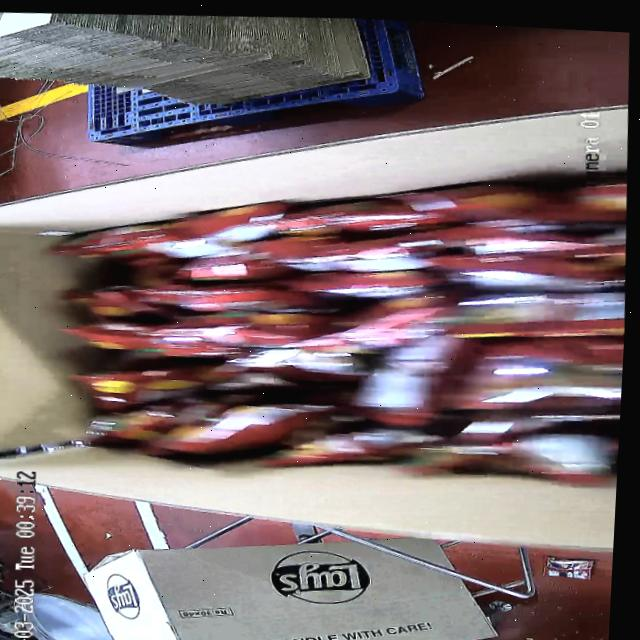MASALA: (32, 149, 632, 499)
